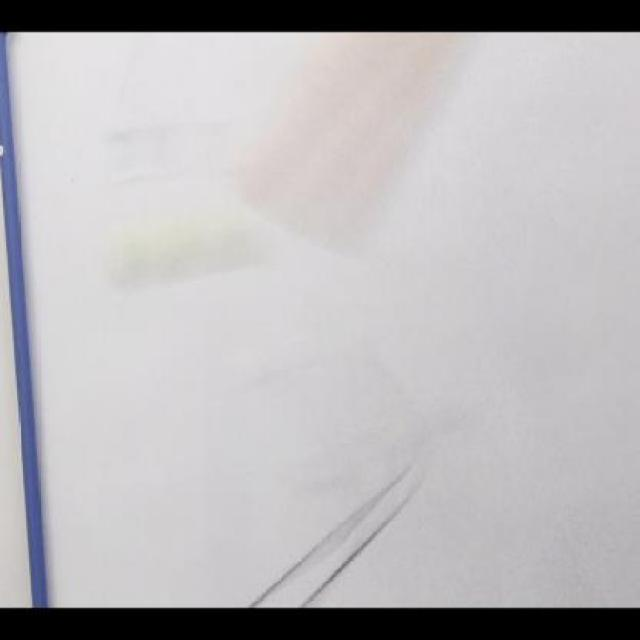baseball: (109, 213, 260, 284)
